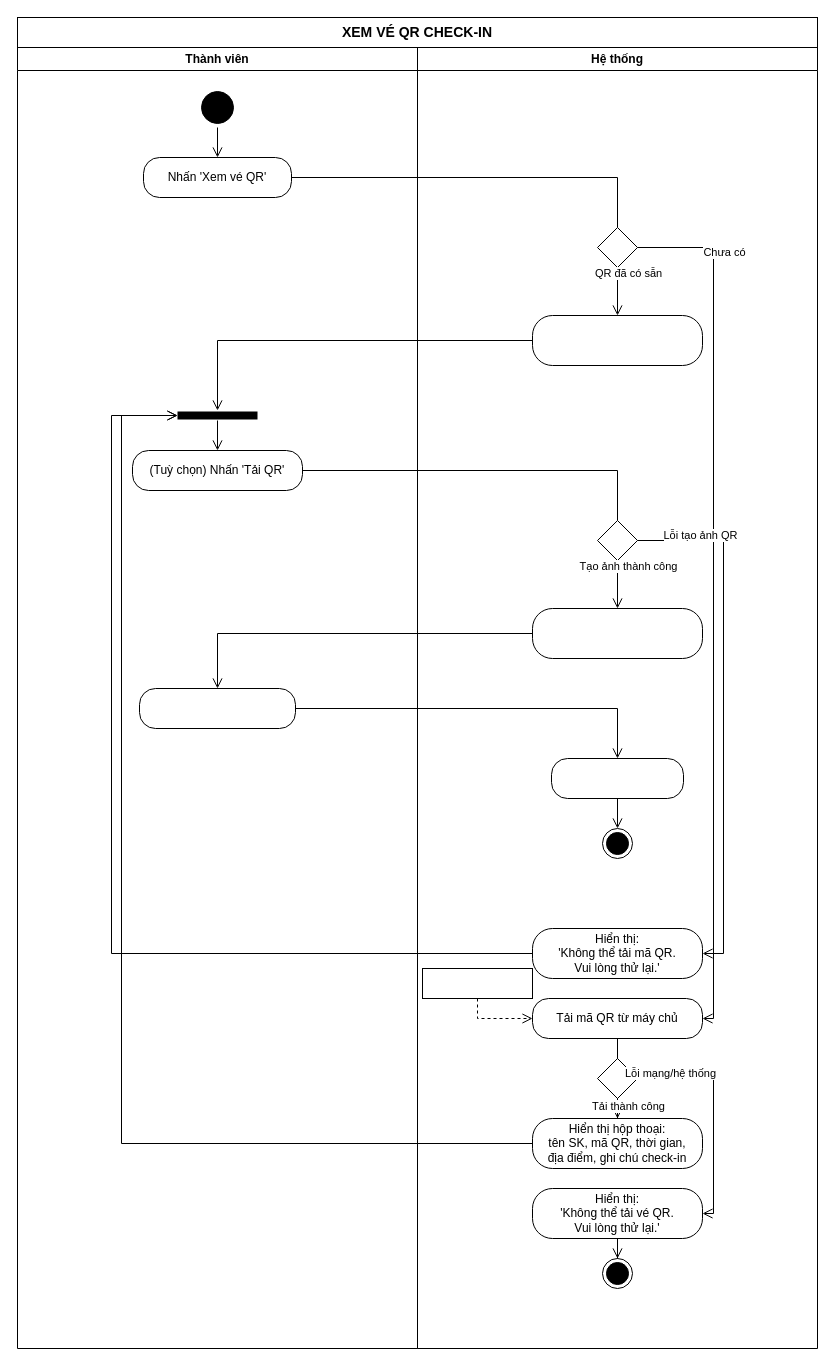
The diagram is 835 pixels wide and 1366 high, and some of its shapes have lost their labels. Here are the shapes that lost their labels. From the top down, the centre of each, then its label:
the point at 617,340: Hiển thị ngay hộp thoại 'Vé tham dự sự kiện'
the point at 617,633: Lưu vé dạng ảnh PNG ('ve-qr-[ten-su-kien].png')
the point at 217,708: Nhấn nút đóng (X)
the point at 617,778: Đóng hộp thoại
the point at 477,983: EventRegistration
